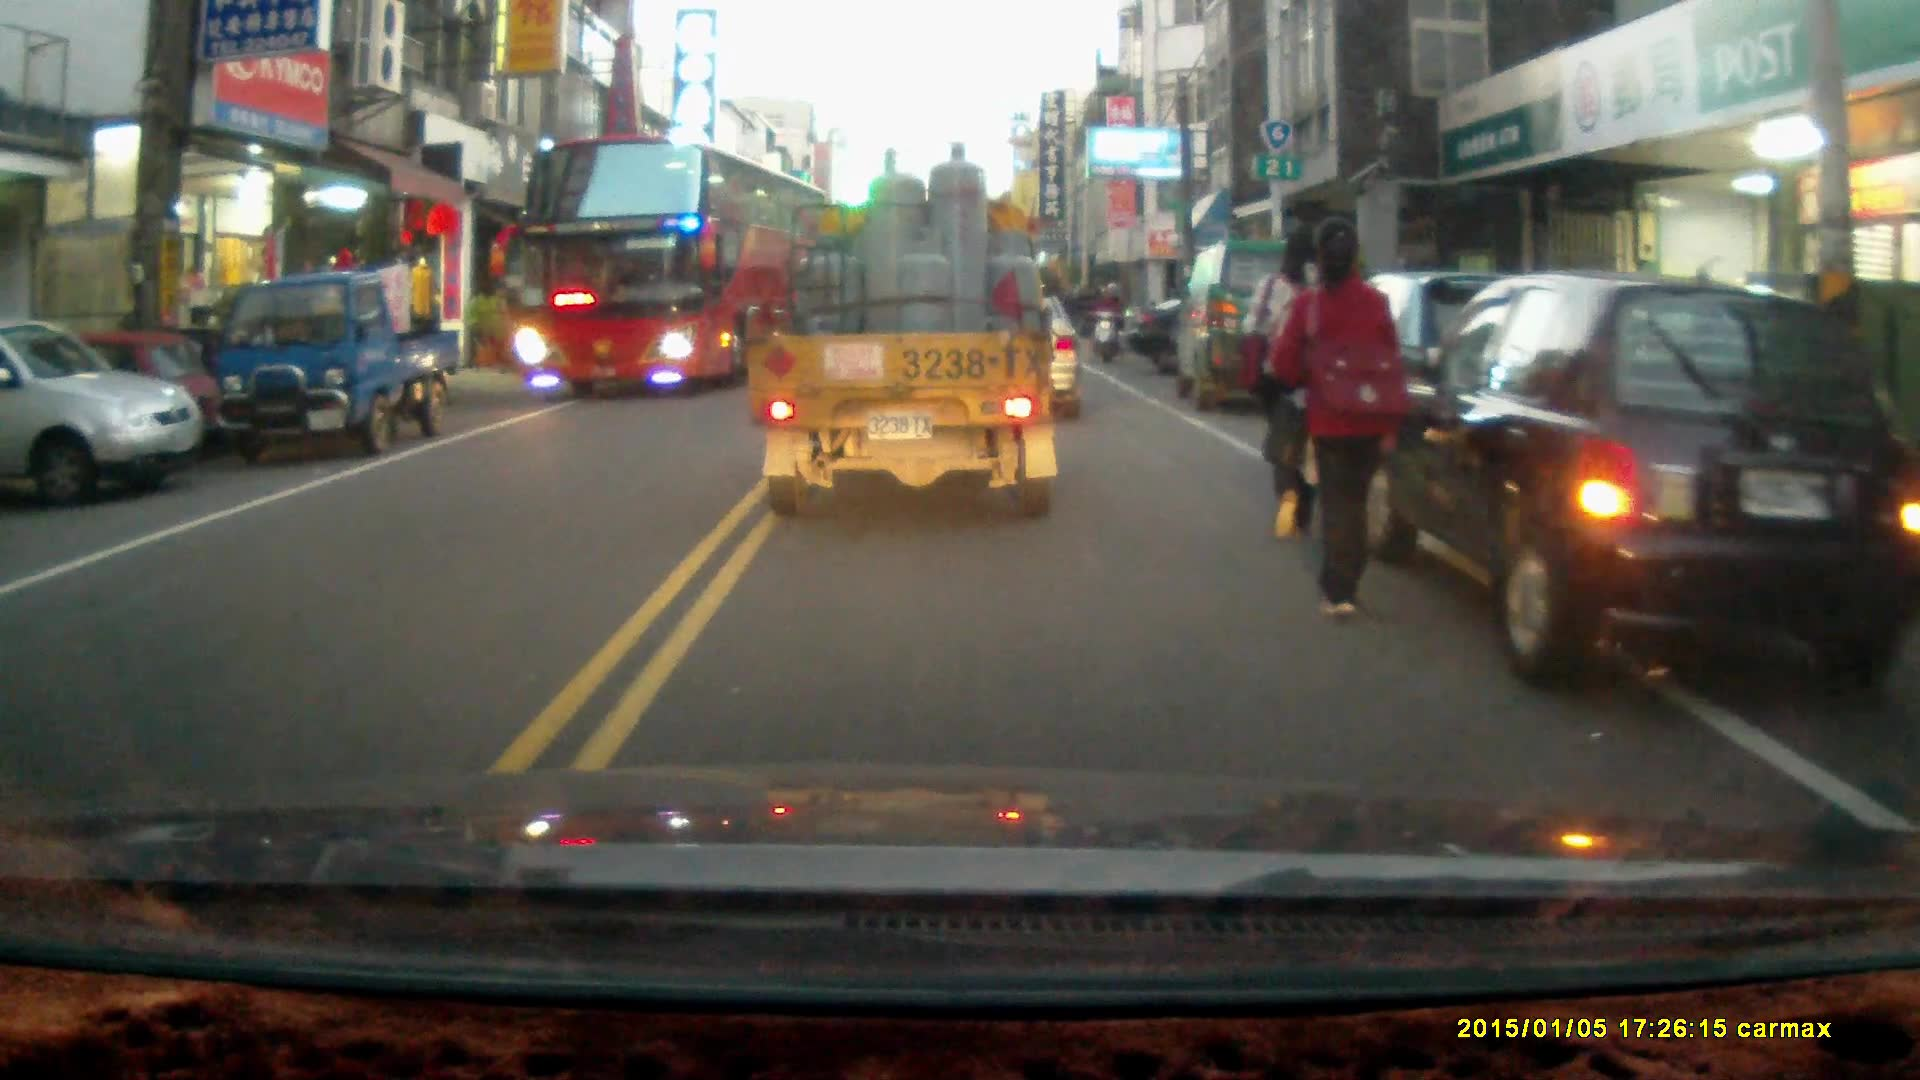pedestrian: (1269, 216, 1408, 618), (1242, 222, 1353, 547)
rider: (1089, 278, 1128, 365)
vehicle: (1372, 270, 1920, 700), (745, 142, 1067, 525), (512, 133, 828, 405), (212, 274, 466, 455), (1, 318, 202, 517), (1174, 239, 1373, 416)
